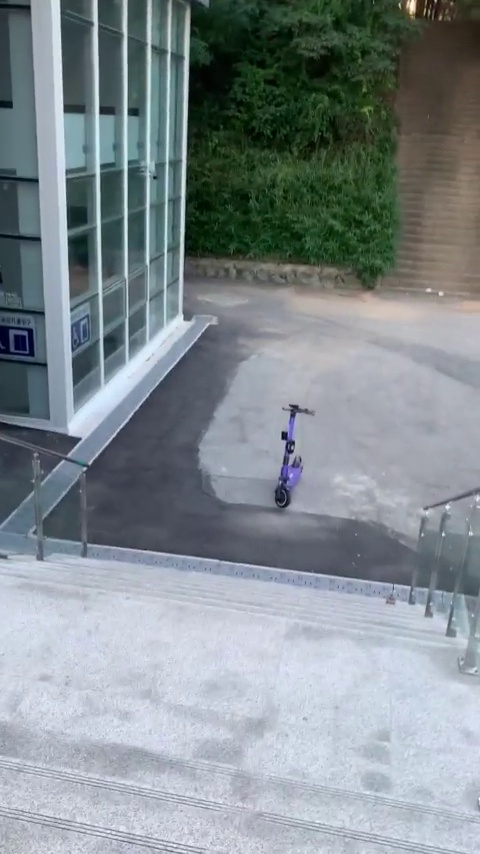beam: (260, 392, 325, 517)
